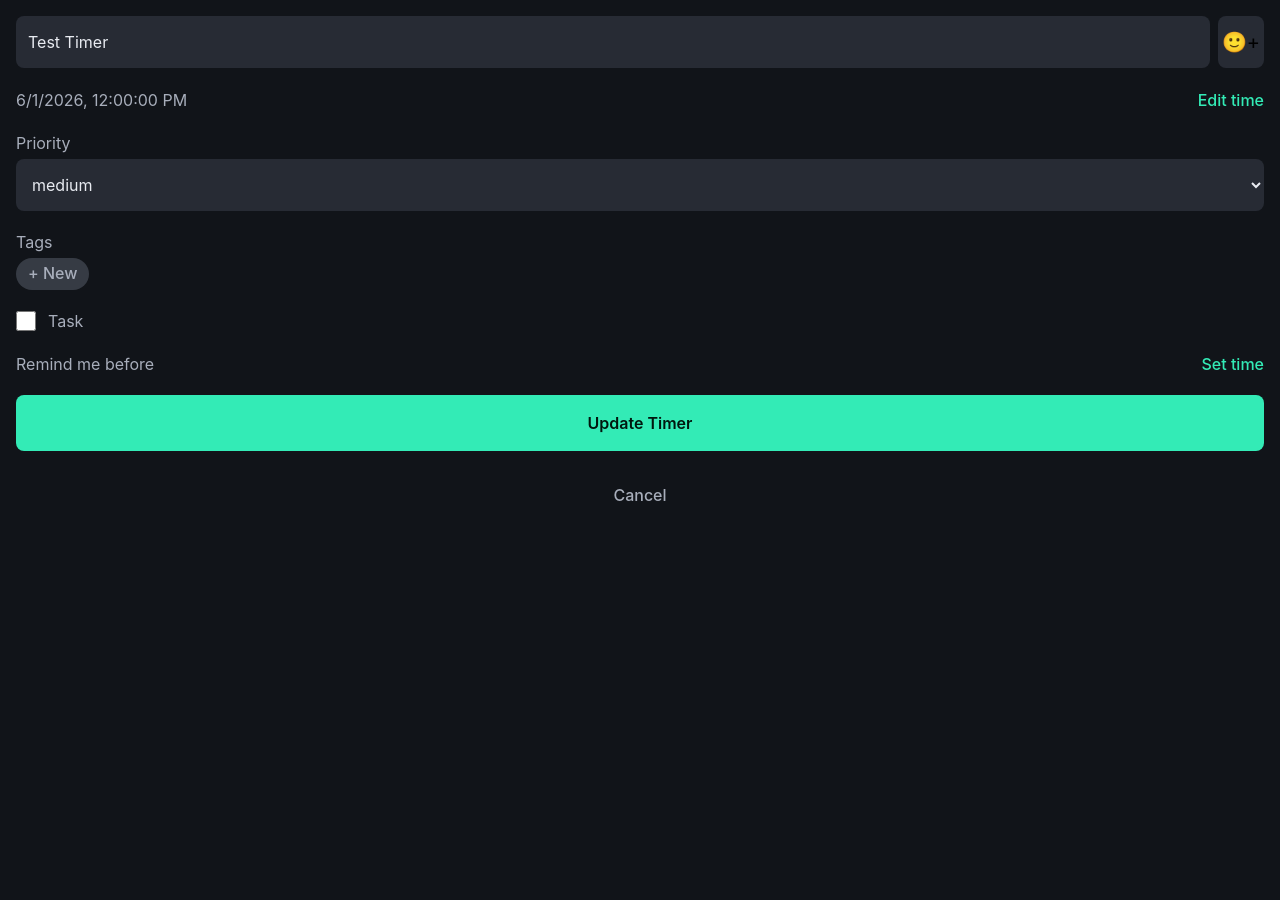
Test: EditTimerView — edit mode › when time edit is unlocked › returns to locked state after cancel
This screenshot has width=1280, height=900.
Click the button "Edit time": {"x": 1231, "y": 100} [1198, 89, 1264, 111]
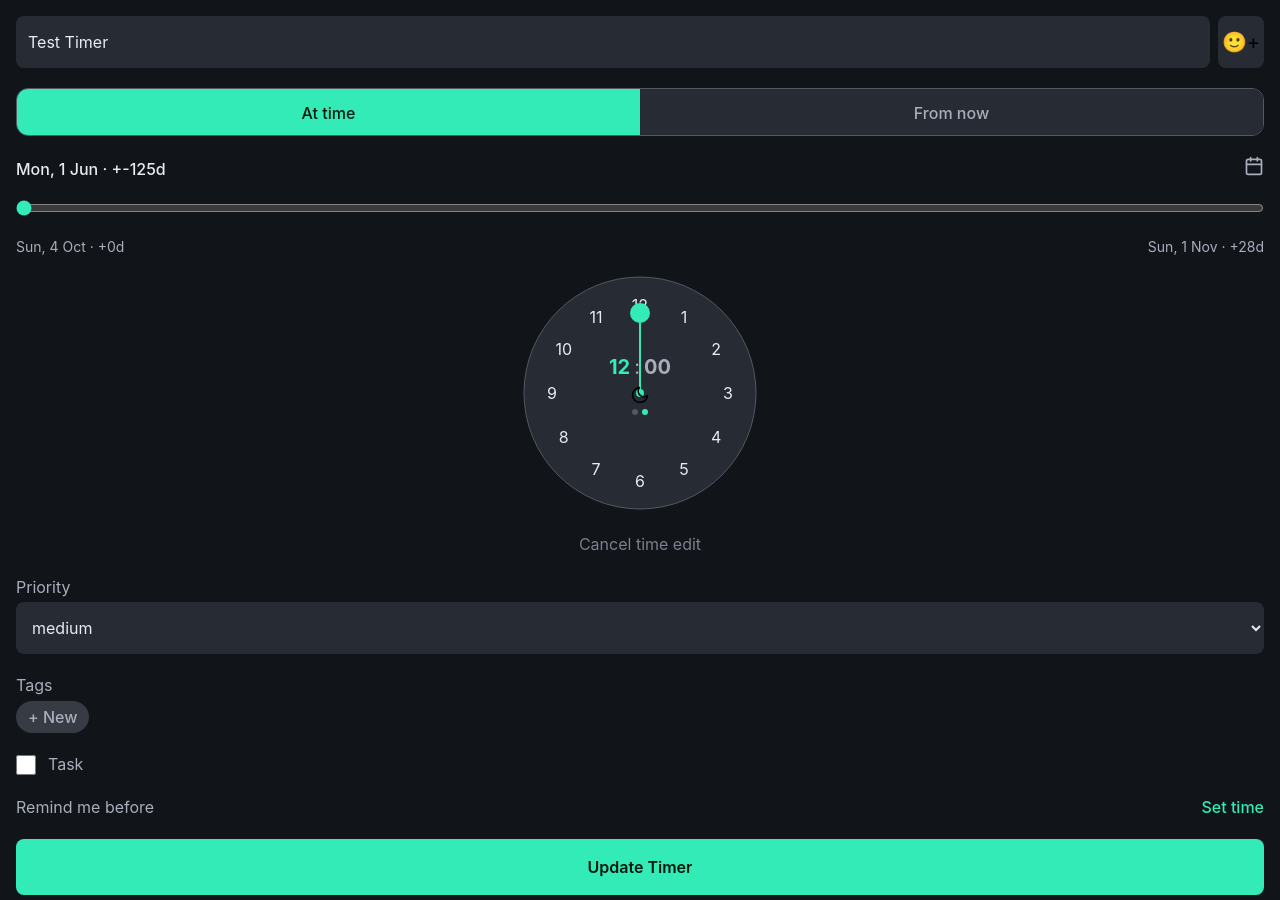
Click the button "Cancel time edit": {"x": 640, "y": 544} [16, 533, 1264, 556]
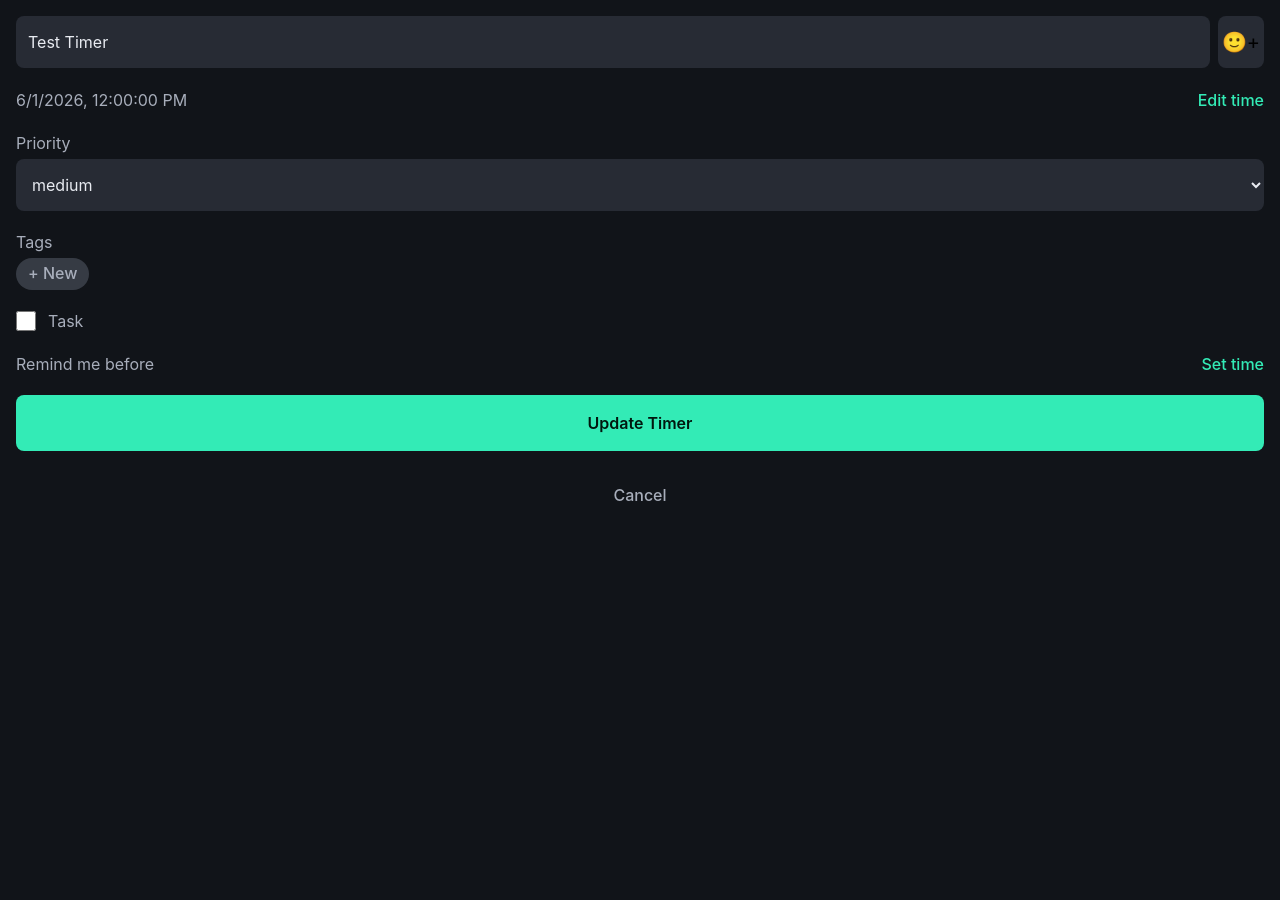
Now the button "From now" is gone
Now the button "Edit time" is shown, box [1198, 89, 1264, 111]
